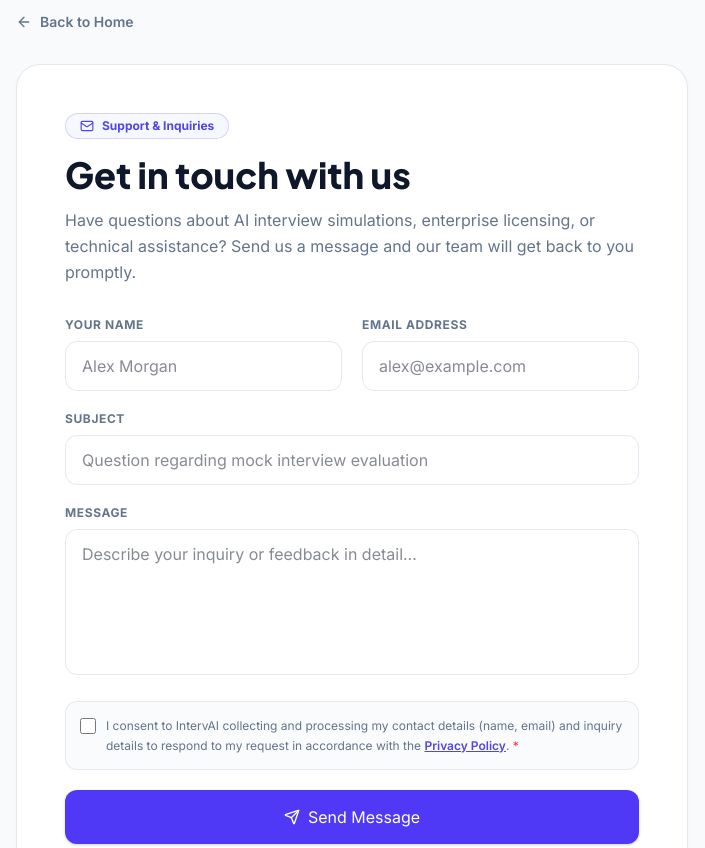
Contact Page Integration Test › validates required fields before allowing submission
Click the button "Send Message".
click(352, 817)  # box [65,790,639,844]
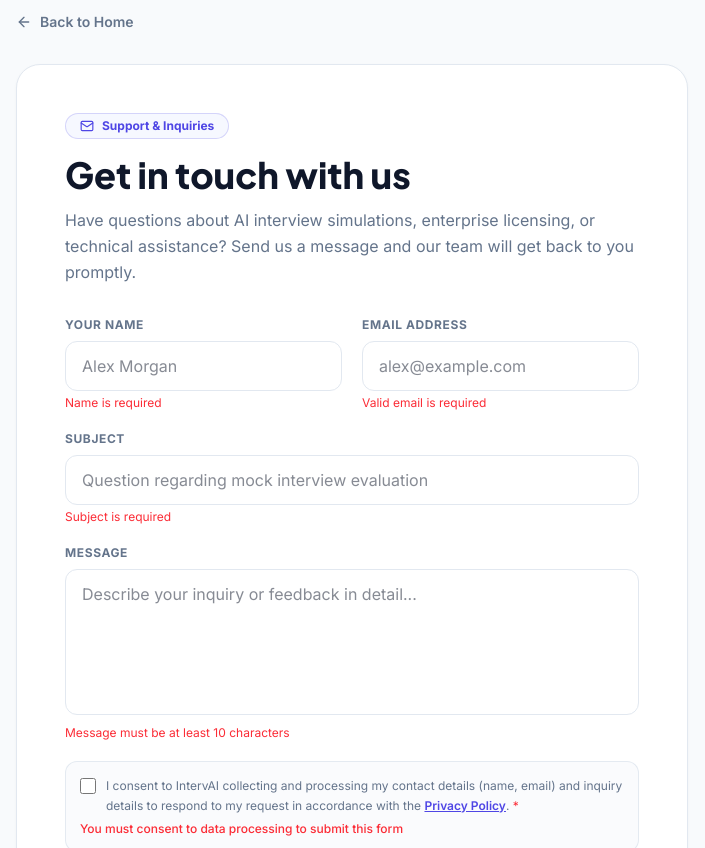
Expected: the text "Name is required" is shown, [65,395,162,410]
Expected: the text "Valid email is required" is shown, [362,395,486,410]
Expected: the text "Subject is required" is shown, [65,509,171,524]
